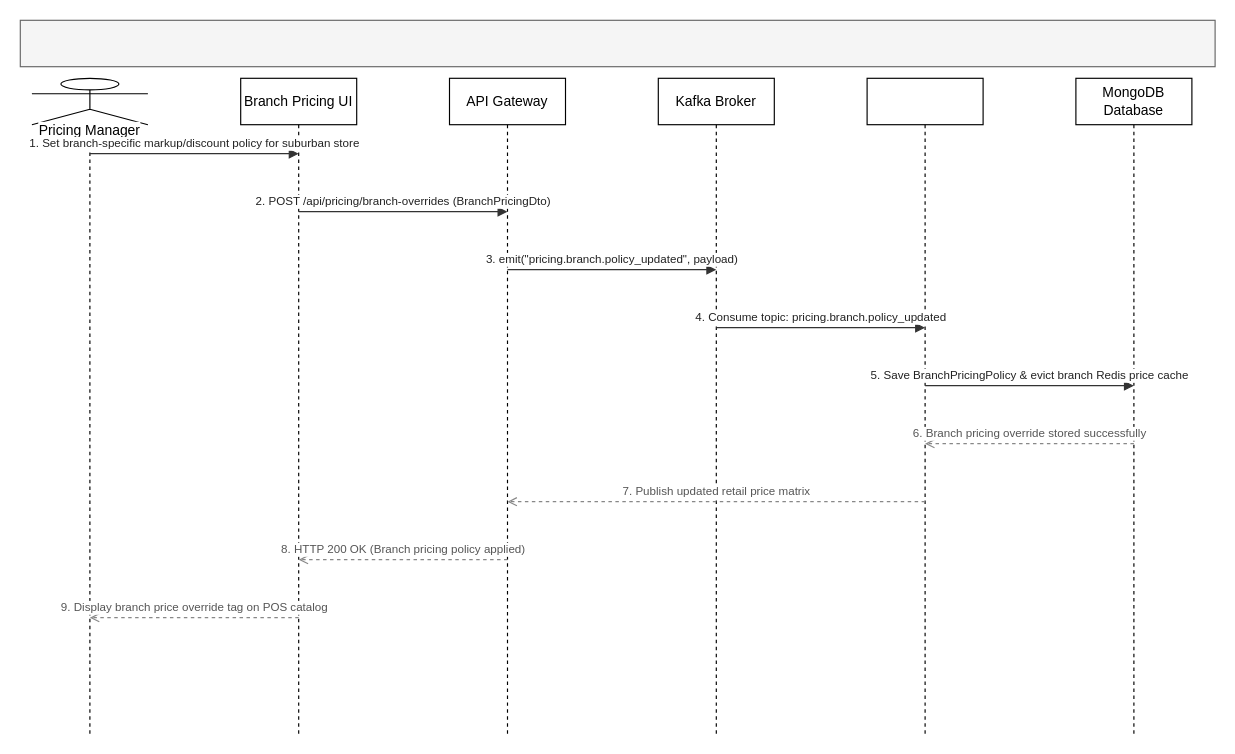
This 1235x754 diagram has some shape labels left out. Each missing label, with the centre of its shape:
"Inventory Service" belongs at point (924, 405).
"Sequence Diagram - UC-93: Branch-specific Pricing Policy" belongs at point (617, 43).
